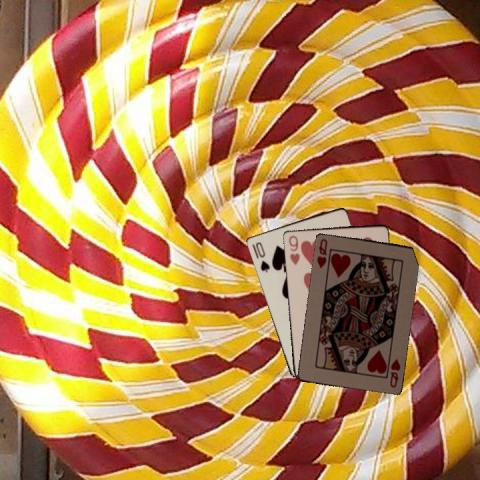10s: (252, 239, 270, 273)
9h: (285, 232, 301, 266)
Qh: (314, 236, 329, 270), (387, 355, 401, 389)
